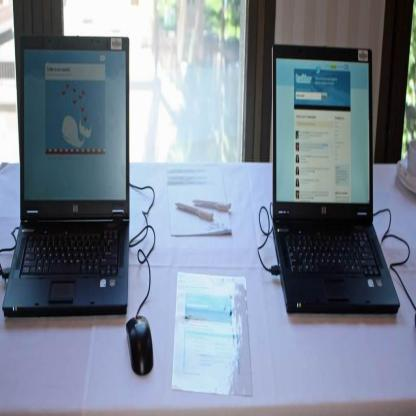board: (272, 39, 400, 317), (3, 35, 129, 313)
